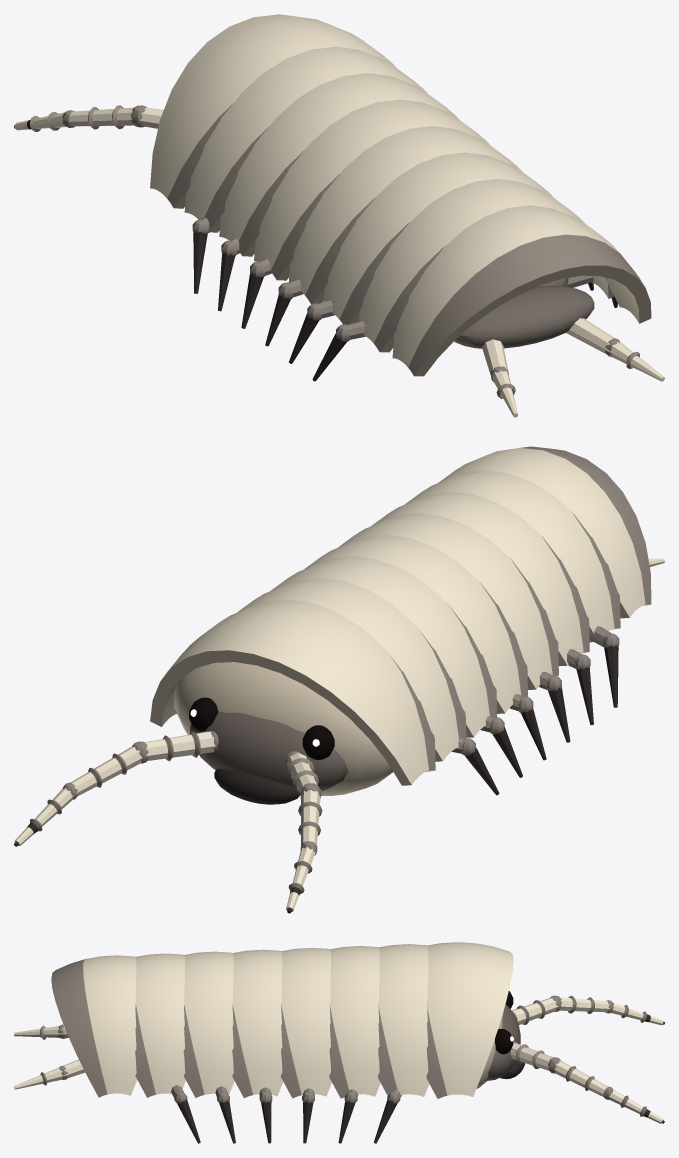
The model's file is bug_pillbug.glb.
3 renders of one model, top to bottom at view 1: azimuth 30°, elevation 25°; view 2: azimuth 150°, elevation 25°; view 3: azimuth 270°, elevation 25°, orthographic. The views are drawn at different scales.
Visible parts, largest first — view 1: seg_7, seg_0, seg_1, seg_2, seg_3, seg_6, seg_4, seg_5, antenna_l_2, tail_r_2, tail_r_1, leg_1_l_2 (+8 smaller); view 2: seg_0, seg_7, seg_1, seg_2, seg_3, seg_4, seg_5, seg_6, antenna_r_2, antenna_r_1, antenna_l_2, antenna_r_3 (+7 smaller); view 3: seg_0, seg_7, seg_1, seg_2, seg_3, seg_4, seg_5, seg_6, antenna_r_2, antenna_l_2, antenna_l_1, antenna_r_1 (+10 smaller).
Part boxes in pixels (x1,y1,x2,y2): seg_7: (392, 205, 651, 376); seg_0: (150, 14, 396, 208); seg_1: (184, 46, 427, 232); seg_2: (219, 73, 459, 256); seg_3: (254, 99, 490, 280); seg_6: (359, 179, 614, 352); seg_4: (289, 126, 522, 304); seg_5: (324, 152, 553, 324); antenna_l_2: (69, 105, 146, 129); tail_r_2: (605, 338, 664, 381); tail_r_1: (566, 318, 614, 354); leg_1_l_2: (192, 219, 209, 293); seg_0: (150, 599, 435, 804); seg_7: (439, 446, 651, 618); seg_1: (237, 578, 466, 761); seg_2: (271, 556, 497, 737); seg_3: (304, 535, 527, 713); seg_4: (338, 513, 558, 689); seg_5: (372, 492, 589, 665); seg_6: (405, 470, 620, 642); antenna_r_2: (70, 741, 148, 796); antenna_r_1: (145, 731, 218, 761); antenna_l_2: (298, 783, 322, 845); antenna_r_3: (14, 782, 78, 846); seg_0: (426, 942, 524, 1098); seg_7: (51, 955, 137, 1097); seg_1: (378, 944, 429, 1096); seg_2: (329, 946, 380, 1098); seg_3: (280, 948, 331, 1098); seg_4: (232, 949, 283, 1098); seg_5: (183, 951, 234, 1097); seg_6: (135, 953, 185, 1097); antenna_r_2: (548, 1057, 607, 1096); antenna_l_2: (550, 995, 609, 1013); antenna_l_1: (512, 998, 558, 1024); antenna_r_1: (510, 1041, 553, 1070).
Bounding box in the file's own units: 1.07 × 0.6259 × 2.67.
